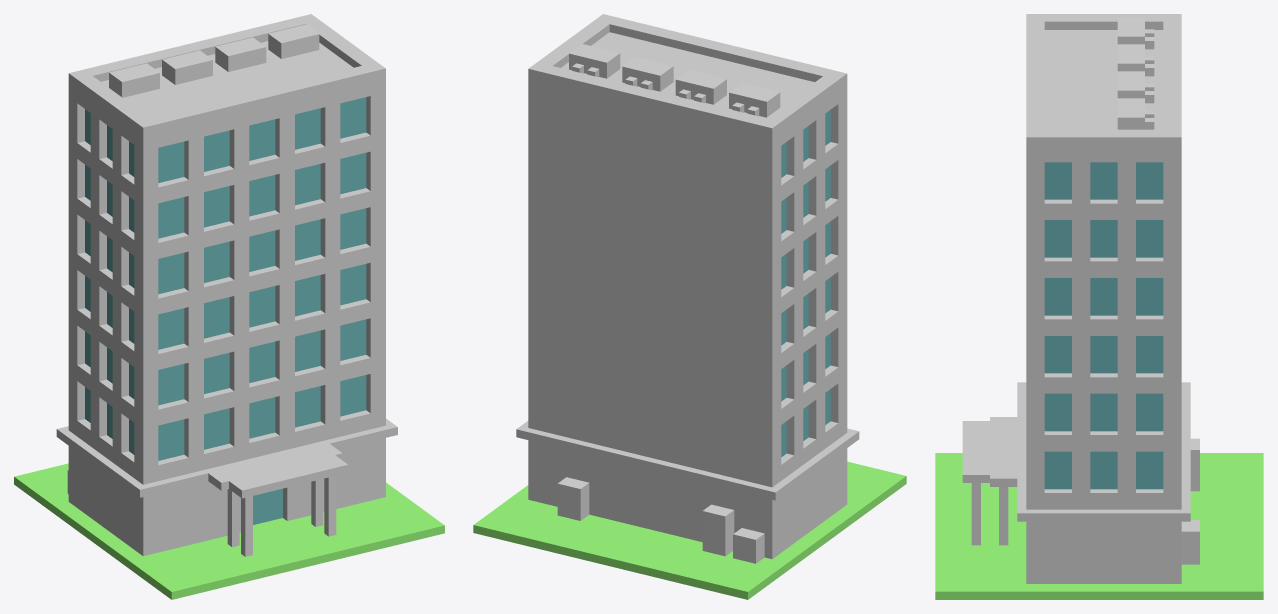
File: Company.glb
The picture shows the model from 3 angles, left to right: view 1: azimuth 30°, elevation 25°; view 2: azimuth 150°, elevation 25°; view 3: azimuth 270°, elevation 25°; orthographic projection. The views are drawn at different scales.
Parts seen in each view (by area): view 1: building; view 2: building; view 3: building.
Part boxes in pixels (x1,y1,x2,y2): building: (14,14,444,599); building: (473,14,906,599); building: (935,14,1263,599).
Bounding box in the file's own units: 9 × 14 × 9.
